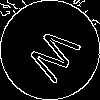W: (25, 25, 90, 90)
